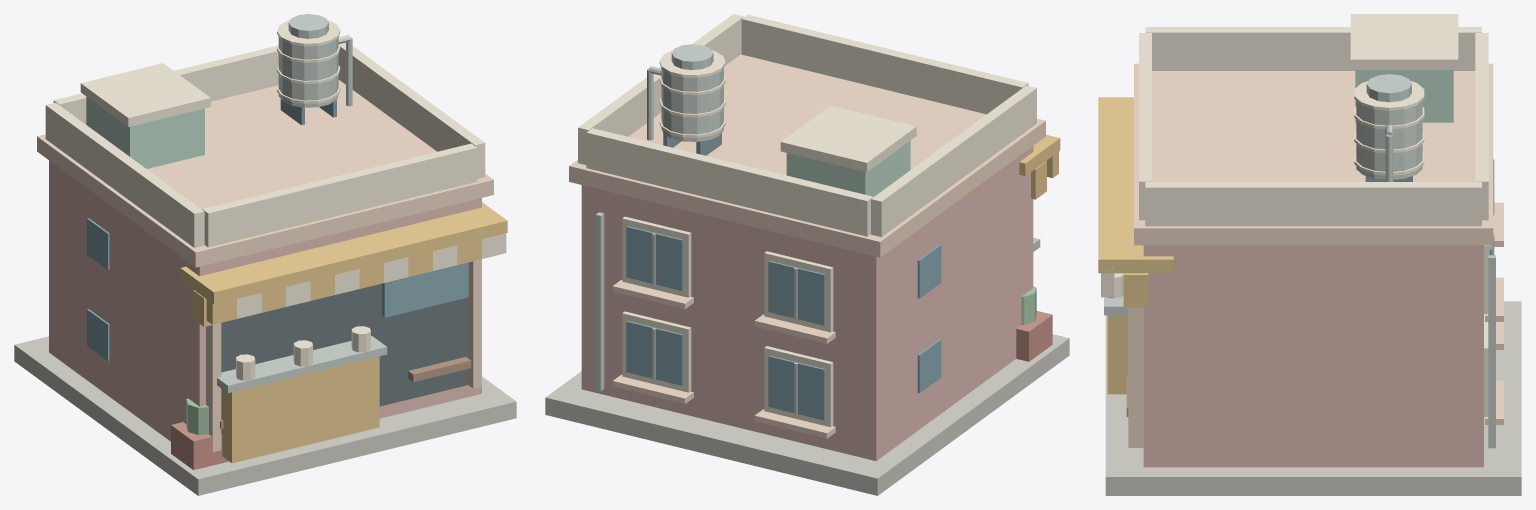
The model's file is town-breakfast.glb.
3 views of the same model, side by side, from view 1: azimuth 30°, elevation 25°; view 2: azimuth 150°, elevation 25°; view 3: azimuth 270°, elevation 25° (orthographic). The views are drawn at different scales.
Parts seen in each view (by area): view 1: paving; view 2: paving; view 3: paving.
Boxes of the visible parts, x1,y1,x2,y2 form: paving: (14, 14, 516, 495); paving: (545, 14, 1069, 495); paving: (1098, 14, 1521, 495).
Size of the model in its own units: 2.2 by 2.14 by 2.24.
1 material, 1 textured.
